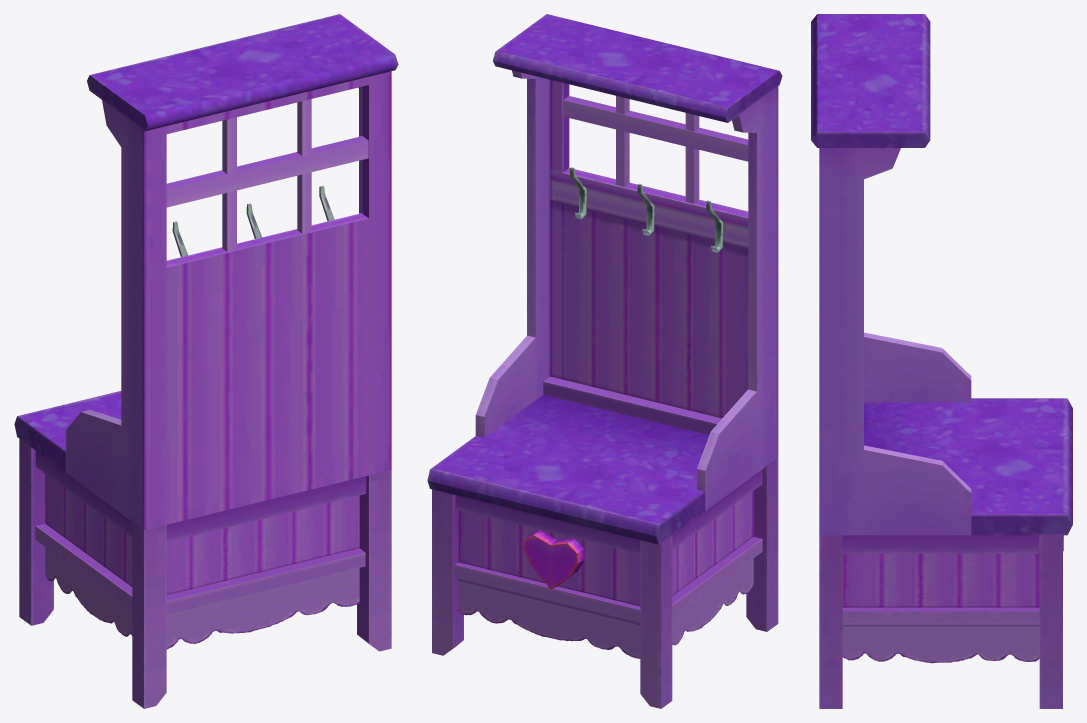
Rendered from furni_0200021_01.FBX.
3 renders of one model, left to right at view 1: azimuth 30°, elevation 25°; view 2: azimuth 150°, elevation 25°; view 3: azimuth 270°, elevation 25°, orthographic. The views are drawn at different scales.
Visible parts, largest first — view 1: furni_0200021_01; view 2: furni_0200021_01; view 3: furni_0200021_01.
Boxes of the visible parts, x1,y1,x2,y2 form: furni_0200021_01: (14,14,398,708); furni_0200021_01: (427,14,782,708); furni_0200021_01: (811,14,1072,708).
Size of the model in its own units: 79.83 by 181 by 74.33.
